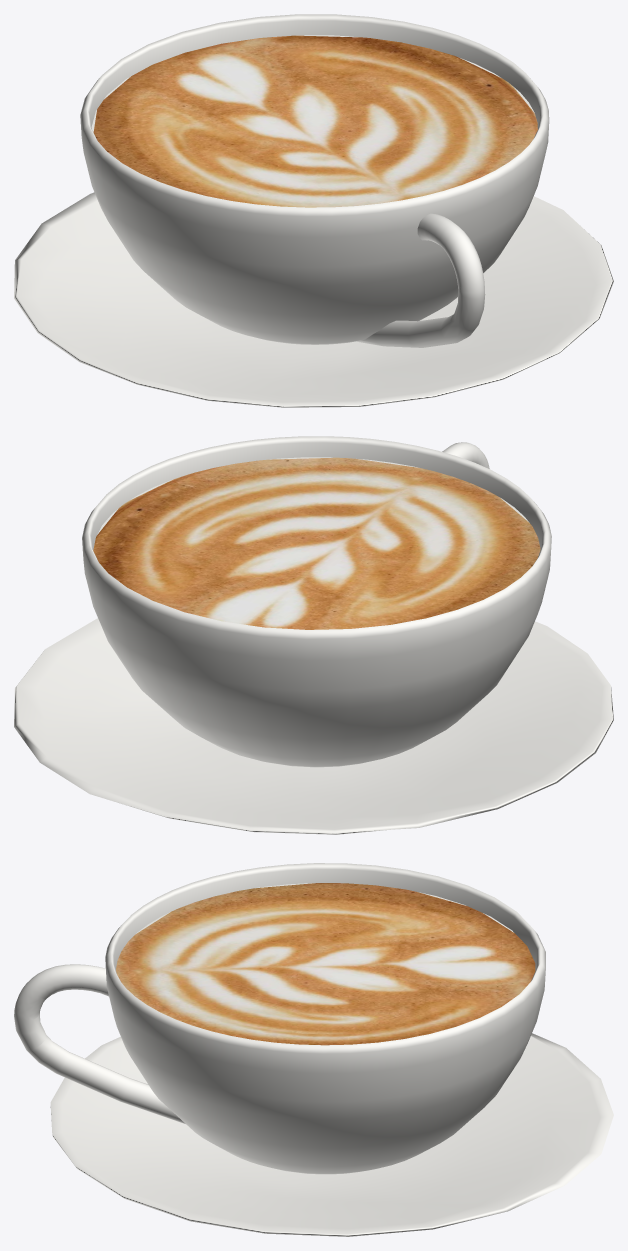
Rendered from coffee.fbx.
3 renders of one model, top to bottom at view 1: azimuth 30°, elevation 25°; view 2: azimuth 150°, elevation 25°; view 3: azimuth 270°, elevation 25°, orthographic. The views are drawn at different scales.
Visible parts, largest first — view 1: coffee_; view 2: coffee_; view 3: coffee_.
Part boxes in pixels (x1,y1,x2,y2): coffee_: (14, 14, 613, 407); coffee_: (14, 436, 613, 834); coffee_: (14, 863, 613, 1236).
Bounding box in the file's own units: 14.77 × 5.49 × 15.68.
2 materials, 2 textured.
